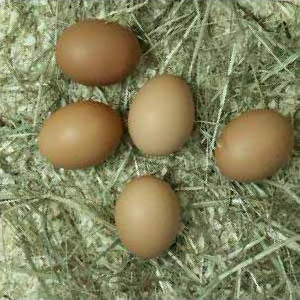egg: (38, 102, 123, 169), (114, 176, 181, 260), (215, 109, 293, 181), (56, 20, 141, 85), (128, 75, 196, 156)
